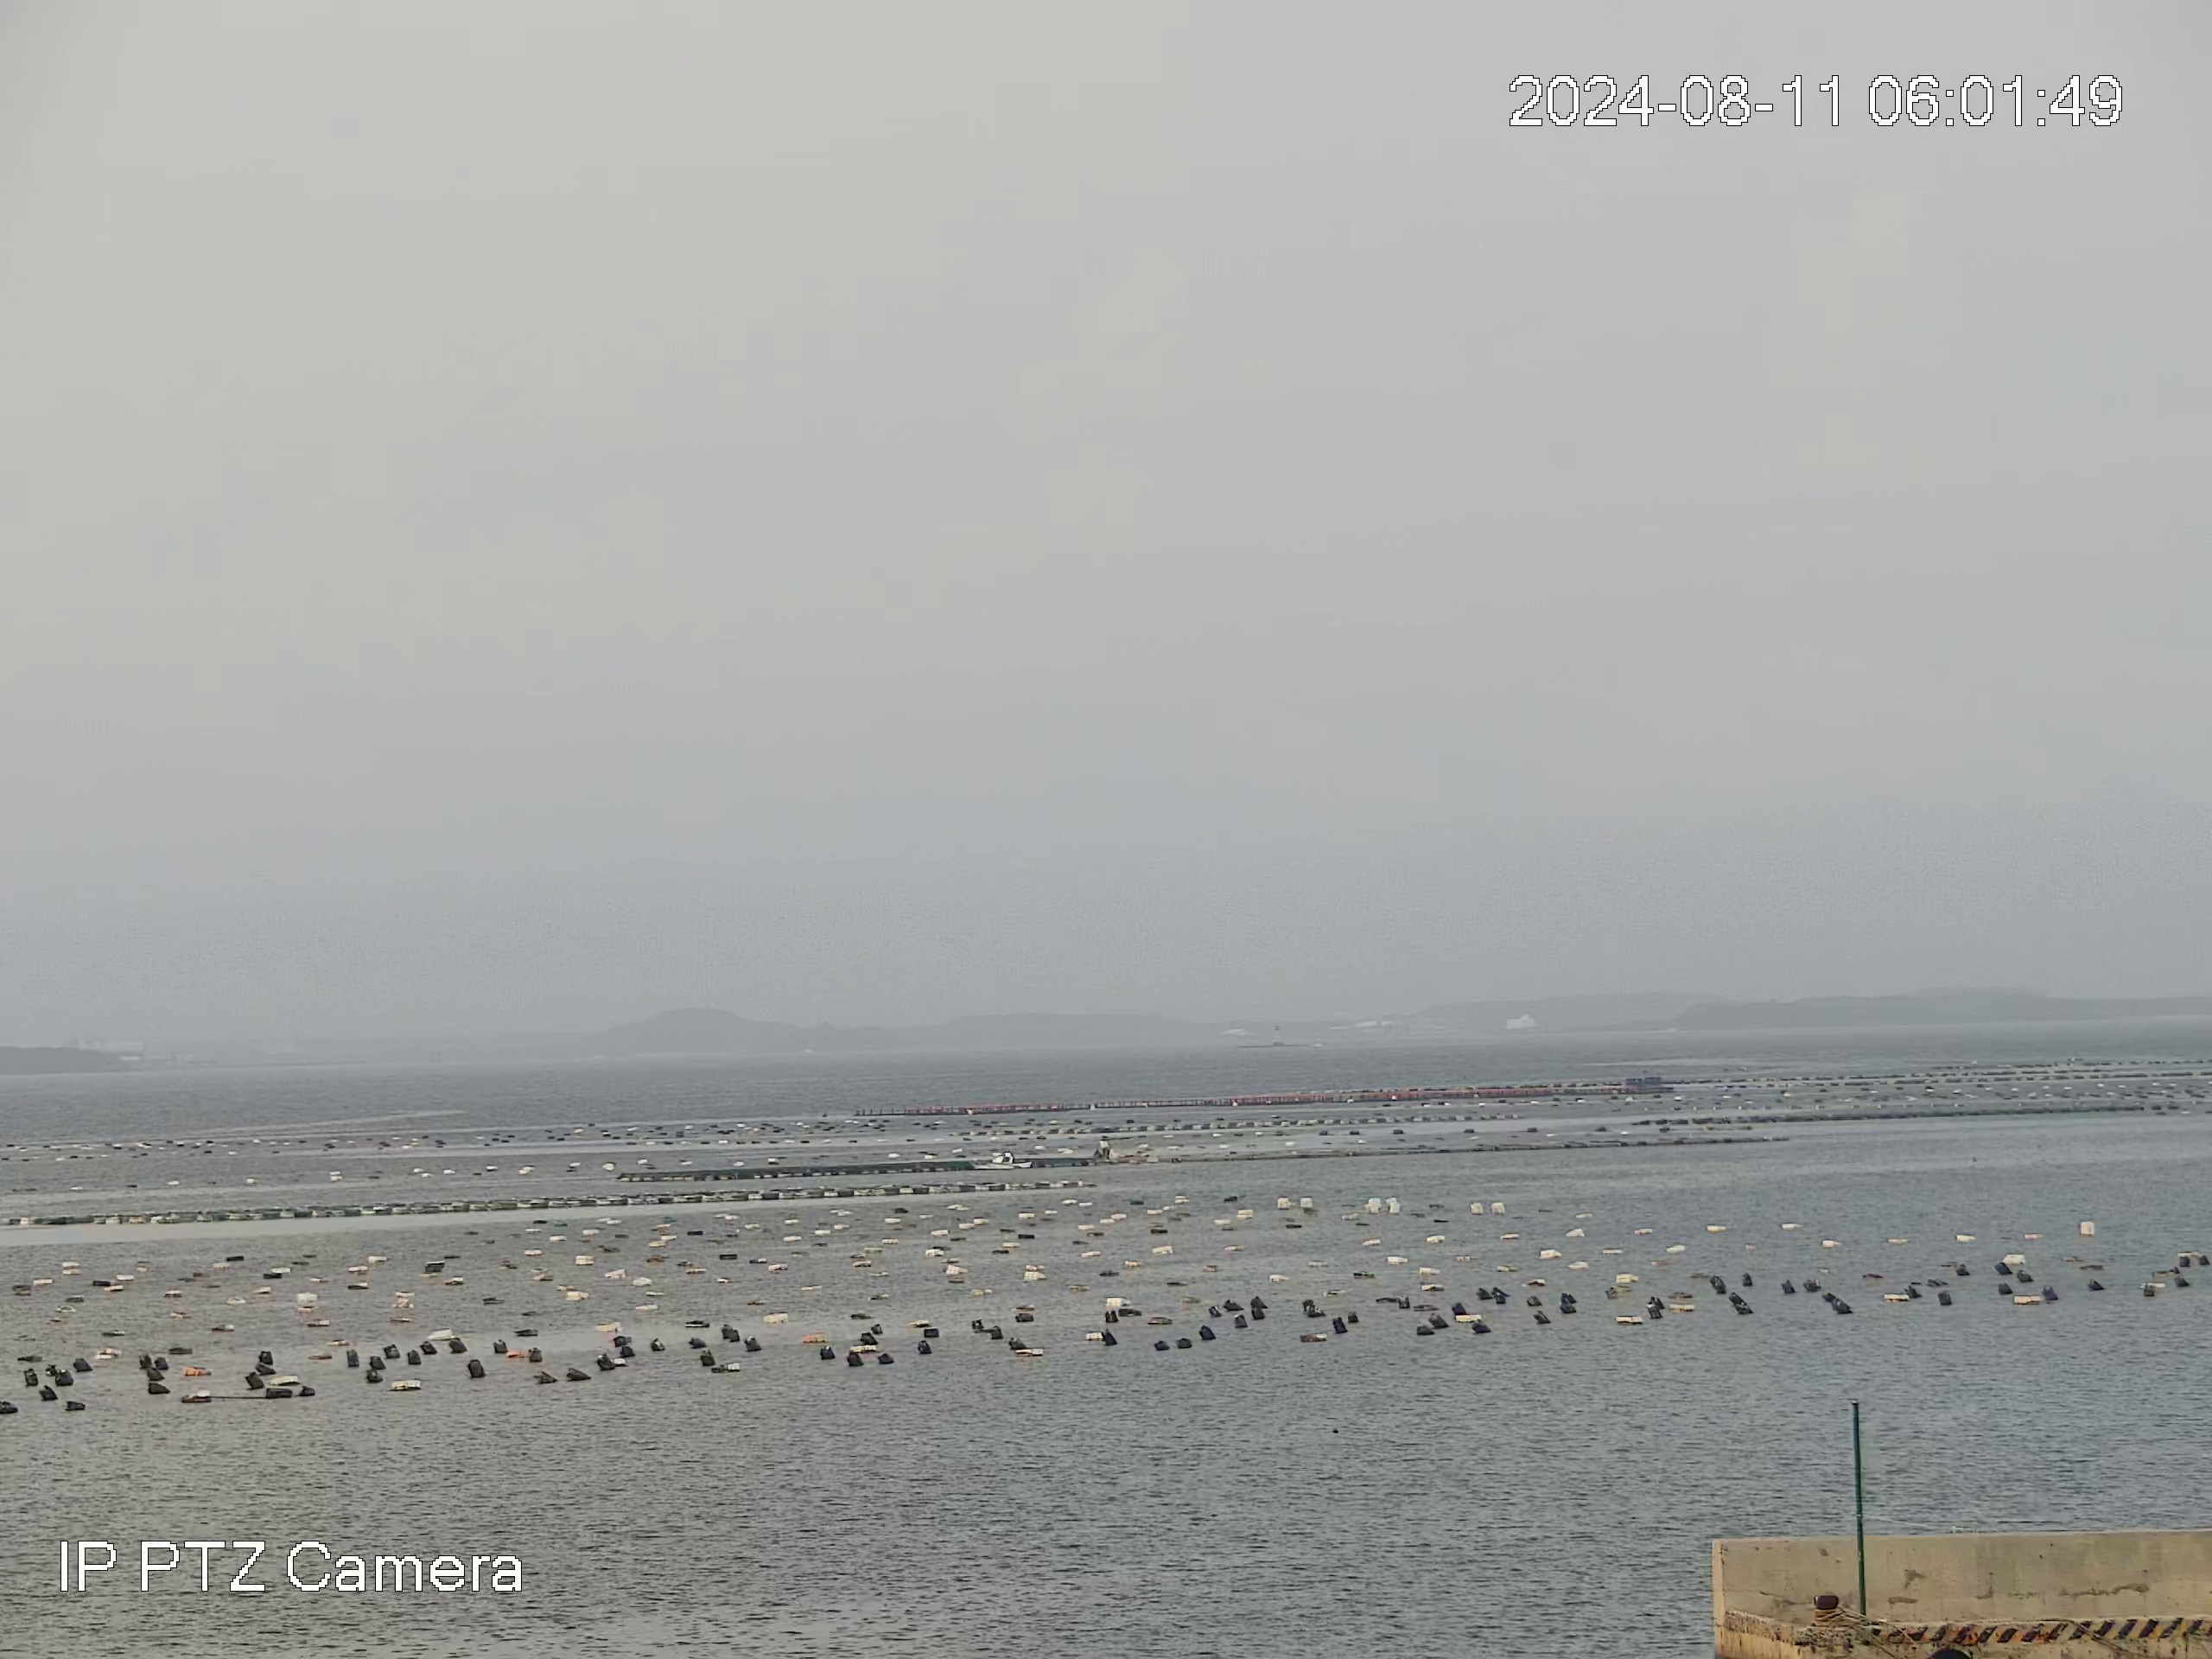boat: (967, 1148, 1035, 1171)
